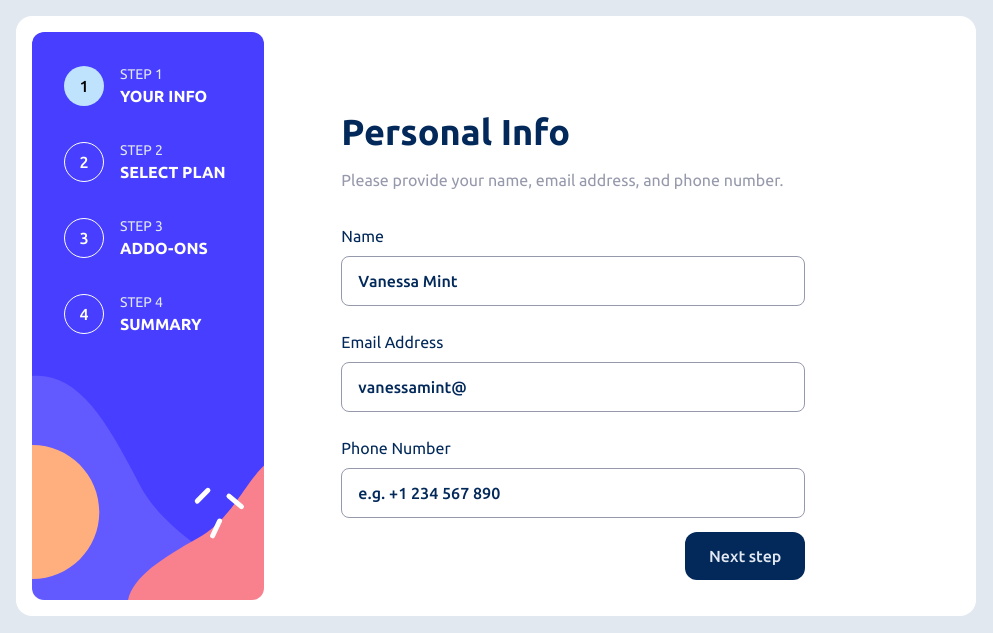
Scenario: Navigation › Testing navigation › should show goBack button when click next button
Click the button "Next step" at [745, 556], box [685,532,805,580]
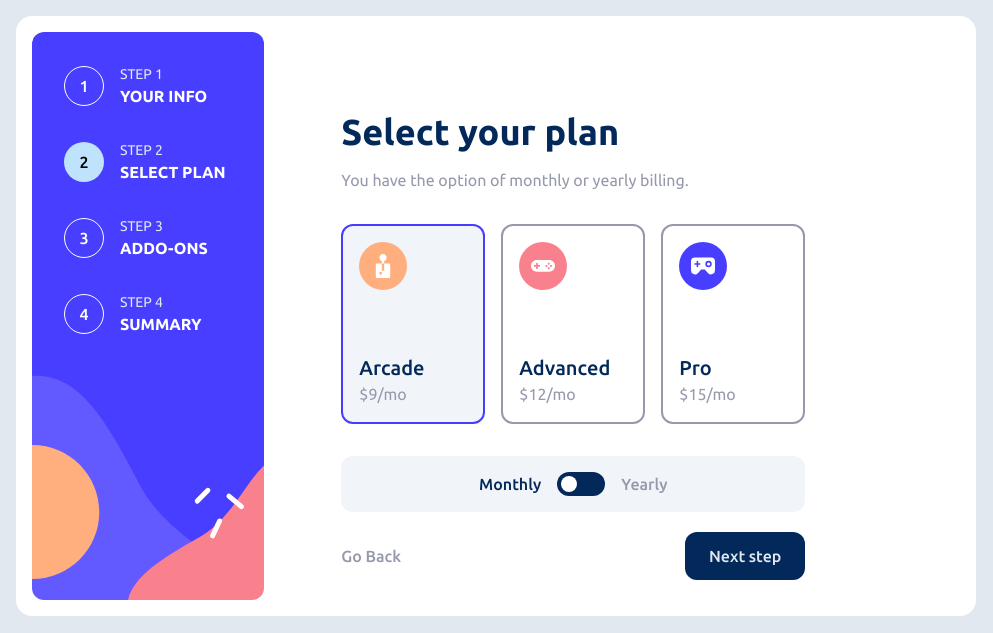
Now the button "Go Back" is shown, box [341,532,401,580]
Now the element showing "2" is shown, box [64,142,104,182]
Click the button "Next step" at [745, 556], box [685,532,805,580]
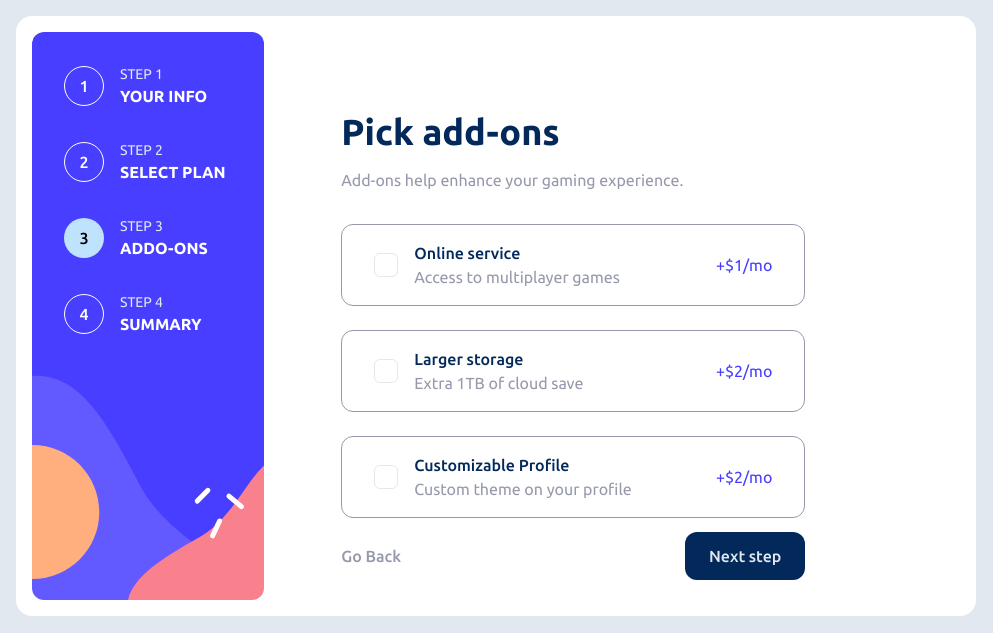
Now the button "Go Back" is shown, box [341,532,401,580]
Now the element showing "3" is shown, box [64,218,104,258]
Click the button "Next step" at [745, 556], box [685,532,805,580]
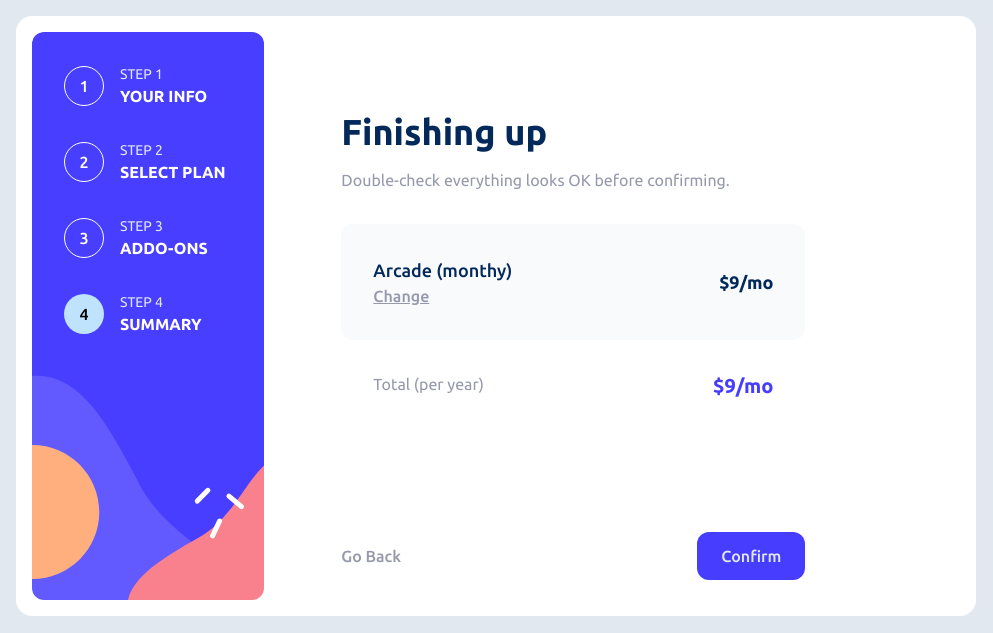
Now the button "Go Back" is shown, box [341,532,401,580]
Now the element showing "4" is shown, box [64,294,104,334]
